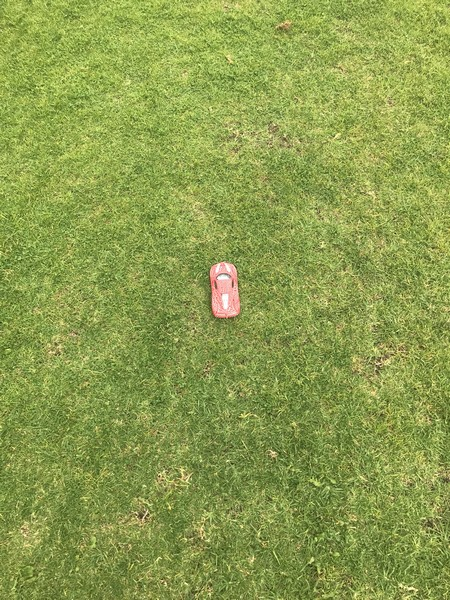RC: (208, 261, 243, 321)
